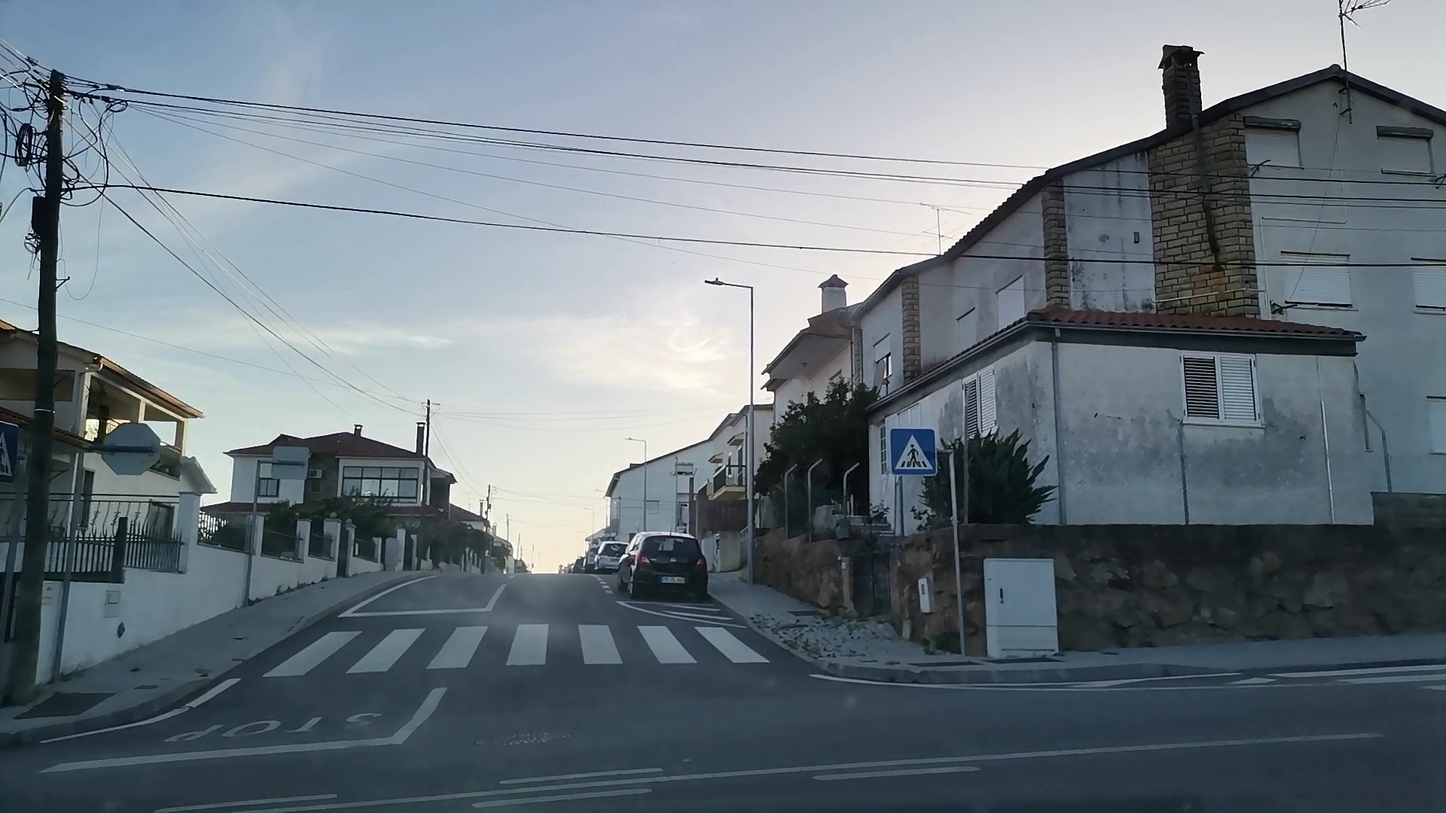Stairs: (271, 626, 773, 677)
